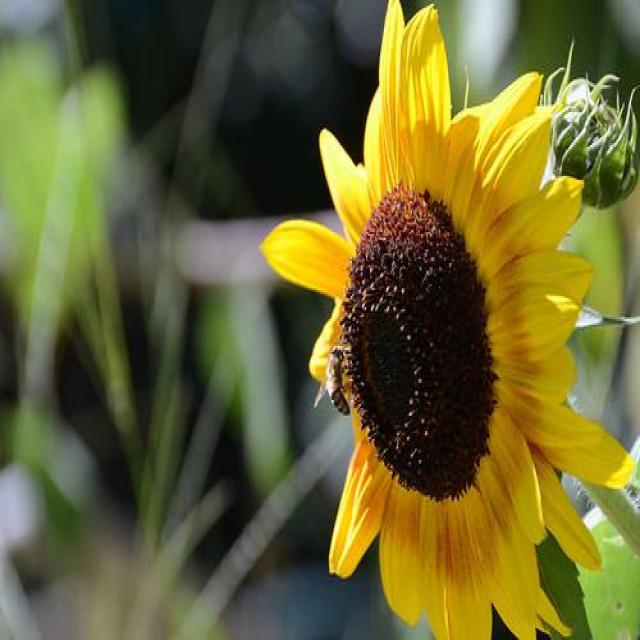sunflower: (260, 2, 630, 640)
